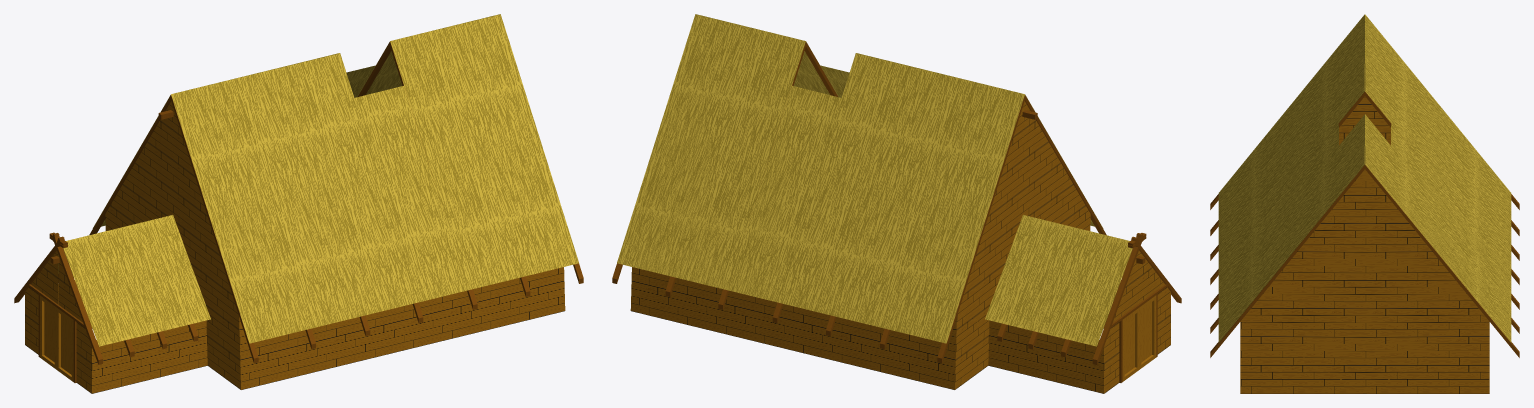
The model's file is CasaComunal.FBX.
3 views of the same model, side by side, from view 1: azimuth 30°, elevation 25°; view 2: azimuth 150°, elevation 25°; view 3: azimuth 270°, elevation 25° (orthographic). The views are drawn at different scales.
Parts seen in each view (by area): view 1: Tejado001, Tejado002, SalonCasaComunal, Tejado, Tejado003, EntradaCasaComunal, PuertaCasaComunal, PuertaCasaComunal001, VigaDragonTejado, Tejado004, VigaTejado006, VigaTejado007 (+1 smaller); view 2: Tejado005, Tejado004, SalonCasaComunal, Tejado007, Tejado006, EntradaCasaComunal, Tejado010, Tejado009, PuertaCasaComunal, PuertaCasaComunal001, VigaDragonTejado001, Tejado002 (+3 smaller); view 3: SalonCasaComunal, Tejado005, Tejado001, Tejado002, Tejado004, Tejado003, Tejado006, Tejado010, VigaTejado008, VigaTejado009, Tejado009.
Boxes of the visible parts, bbox=[...] form: Tejado001: bbox=[171, 53, 418, 343]; Tejado002: bbox=[390, 14, 578, 289]; SalonCasaComunal: bbox=[105, 101, 565, 389]; Tejado: bbox=[63, 215, 210, 346]; Tejado003: bbox=[354, 86, 468, 302]; EntradaCasaComunal: bbox=[25, 251, 207, 393]; PuertaCasaComunal: bbox=[56, 308, 73, 381]; PuertaCasaComunal001: bbox=[40, 295, 56, 369]; VigaDragonTejado: bbox=[49, 232, 102, 364]; Tejado004: bbox=[359, 14, 500, 94]; VigaTejado006: bbox=[171, 95, 258, 363]; VigaTejado007: bbox=[89, 95, 171, 234]; Tejado005: bbox=[777, 53, 1024, 343]; Tejado004: bbox=[617, 14, 805, 290]; SalonCasaComunal: bbox=[630, 101, 1090, 389]; Tejado007: bbox=[985, 215, 1132, 346]; Tejado006: bbox=[727, 85, 841, 302]; EntradaCasaComunal: bbox=[988, 250, 1170, 393]; Tejado010: bbox=[618, 19, 726, 289]; Tejado009: bbox=[728, 90, 790, 300]; PuertaCasaComunal: bbox=[1139, 295, 1156, 369]; PuertaCasaComunal001: bbox=[1122, 308, 1139, 381]; VigaDragonTejado001: bbox=[1092, 233, 1146, 364]; Tejado002: bbox=[697, 14, 829, 94]; SalonCasaComunal: bbox=[1240, 96, 1489, 393]; Tejado005: bbox=[1364, 14, 1511, 269]; Tejado001: bbox=[1218, 14, 1365, 269]; Tejado002: bbox=[1218, 114, 1365, 342]; Tejado004: bbox=[1364, 114, 1511, 342]; Tejado003: bbox=[1218, 124, 1338, 291]; Tejado006: bbox=[1391, 124, 1511, 291]; Tejado010: bbox=[1370, 170, 1510, 333]; VigaTejado008: bbox=[1210, 165, 1364, 357]; VigaTejado009: bbox=[1365, 165, 1519, 357]; Tejado009: bbox=[1396, 152, 1511, 285].
Size of the model in its own units: 1937 by 1023 by 1241.
